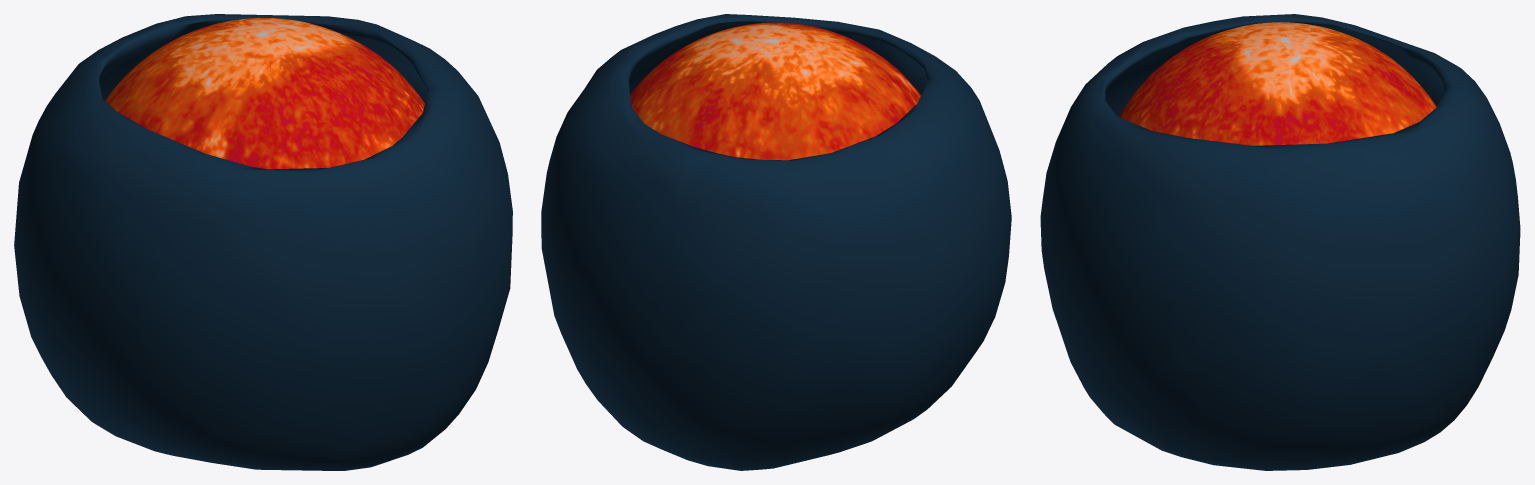
File: water_body lvl 2 wo-surface low.glb
3 renders of one model, left to right at view 1: azimuth 30°, elevation 25°; view 2: azimuth 150°, elevation 25°; view 3: azimuth 270°, elevation 25°, orthographic. The views are drawn at different scales.
Visible parts, largest first — view 1: Water Layer, Mantle; view 2: Water Layer, Mantle; view 3: Water Layer, Mantle.
Boxes of the visible parts, bbox=[...] form: Water Layer: bbox=[14, 14, 512, 470]; Mantle: bbox=[105, 18, 424, 169]; Water Layer: bbox=[541, 14, 1011, 470]; Mantle: bbox=[630, 22, 921, 160]; Water Layer: bbox=[1040, 14, 1520, 470]; Mantle: bbox=[1119, 22, 1436, 145].
Bounding box in the file's own units: 1.89 × 1.69 × 1.9.
Materials: 2 (1 with a texture image).
